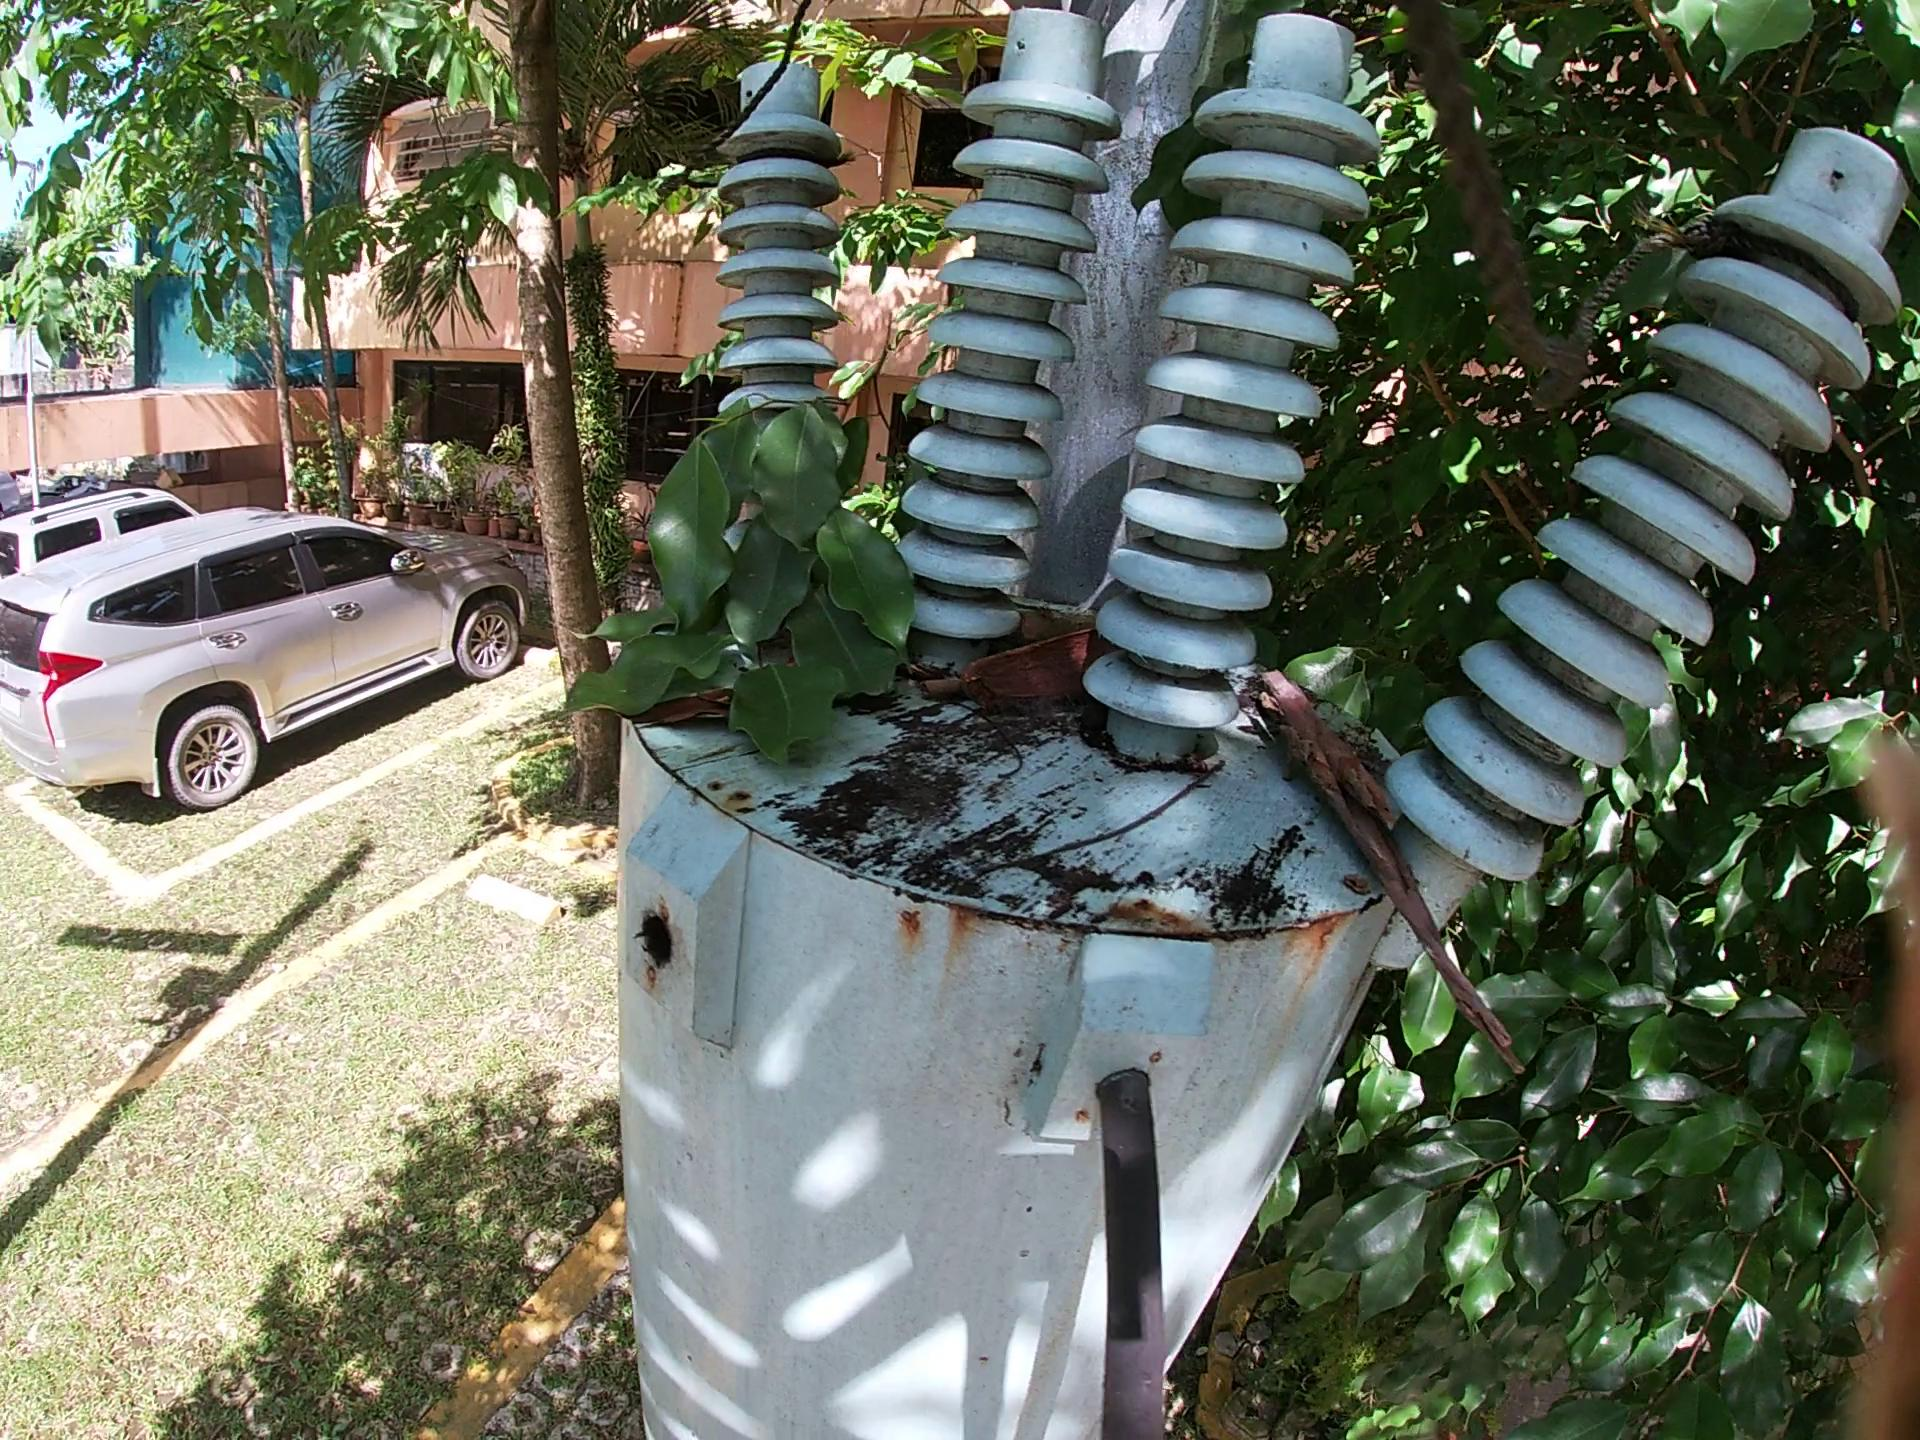branch with leaves: (576, 340, 924, 788)
mahogany fruit: (962, 617, 1119, 700), (633, 678, 751, 732)
tree branch: (1238, 653, 1541, 1085), (983, 756, 1228, 882), (986, 697, 1034, 796), (999, 596, 1117, 632), (909, 669, 980, 697)
